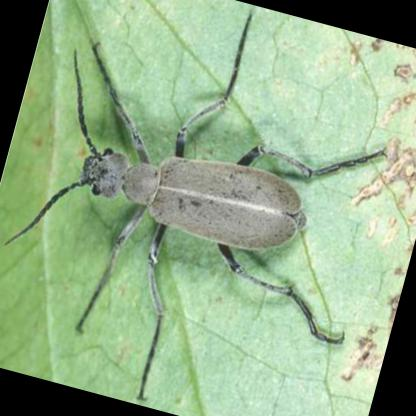blister beetle: (34, 16, 382, 399)
